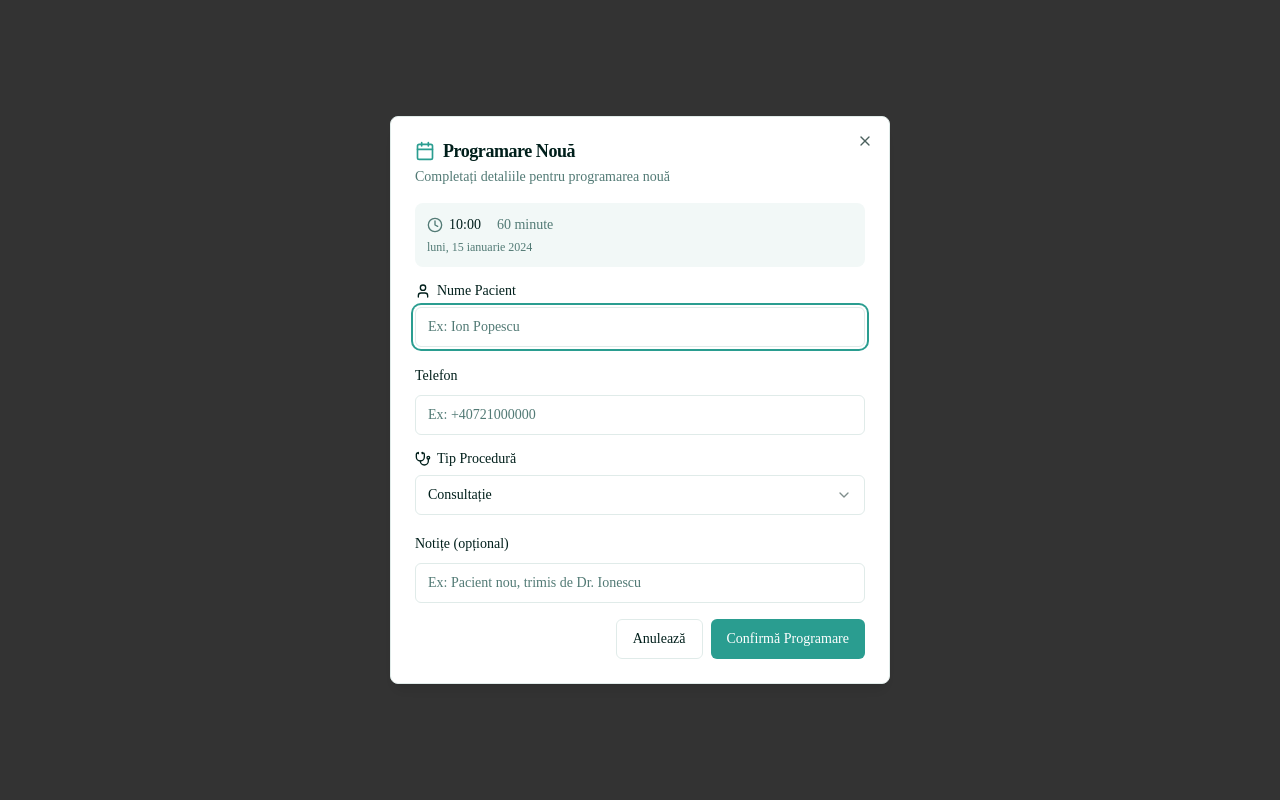
Test: BookingModal › should show validation error when phone is empty
This screenshot has width=1280, height=800.
In the field labelled "Nume Pacient": (640, 327) [415,307,865,347], type "Ion Popescu"
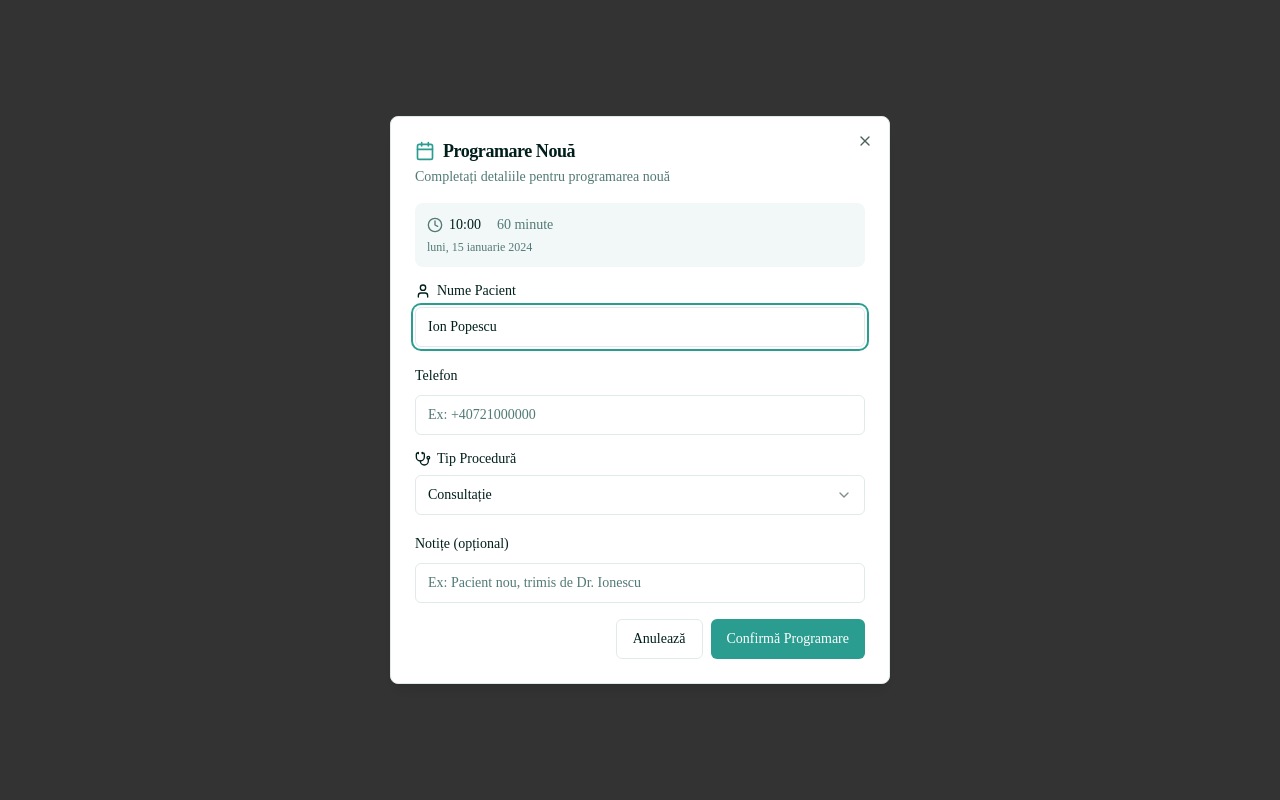
Click the button "Confirmă Programare": (788, 639) [710,619,865,659]
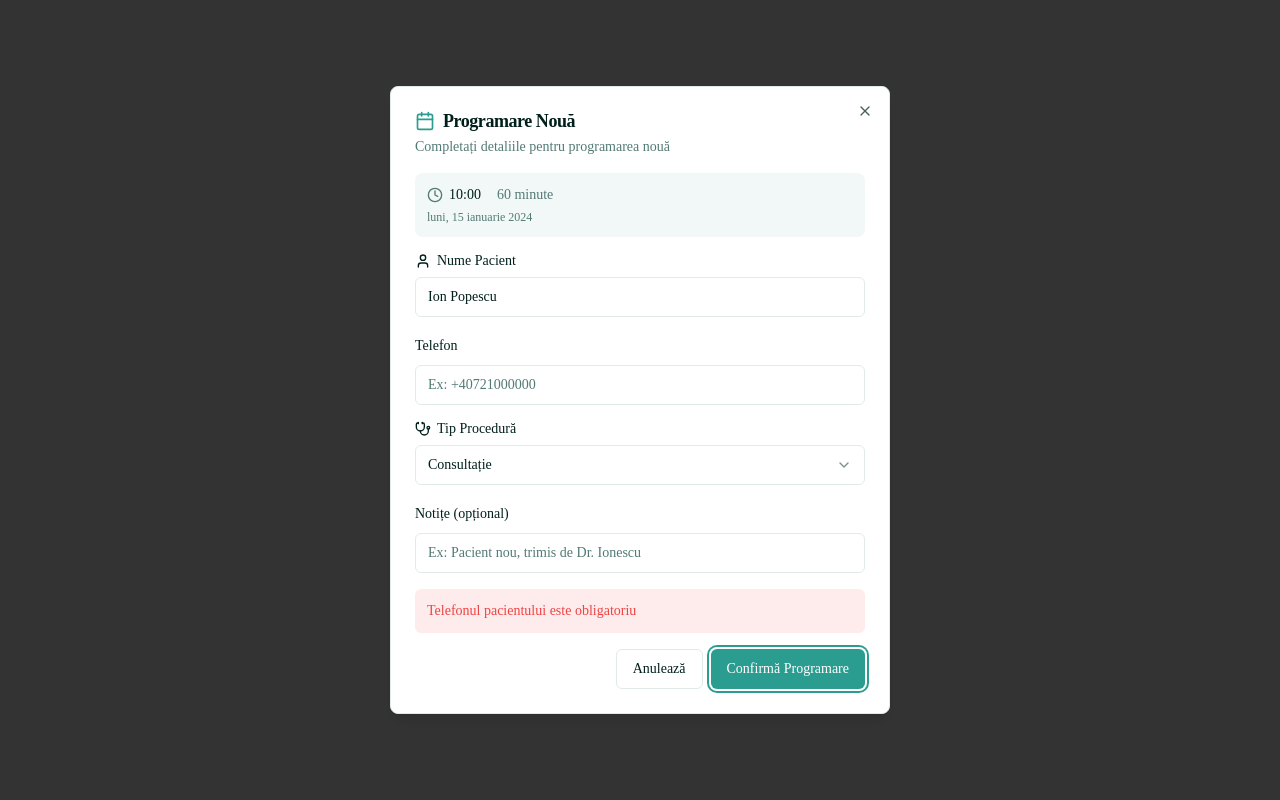
Now the text "Telefonul pacientului este obligatoriu" is shown, box [415,589,865,633]
